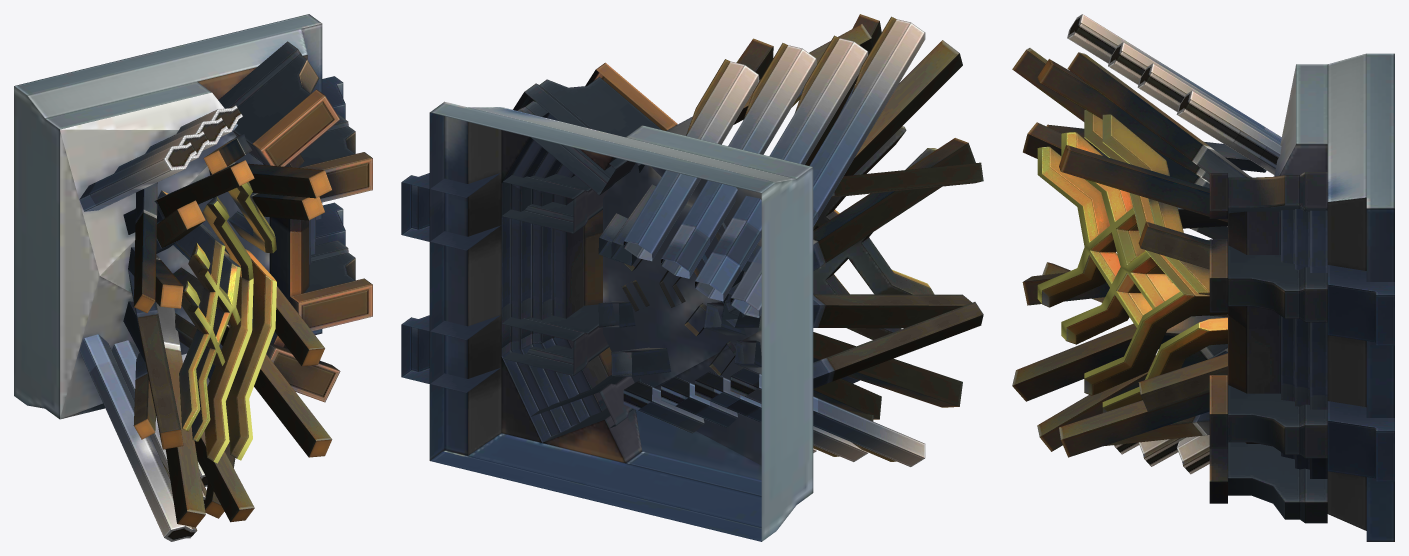
File: trap_134_condtr.glb
The picture shows the model from 3 angles, left to right: view 1: azimuth 30°, elevation 25°; view 2: azimuth 150°, elevation 25°; view 3: azimuth 270°, elevation 25°; orthographic projection. The views are drawn at different scales.
Parts seen in each view (by area): view 1: trap_134_condtr; view 2: trap_134_condtr; view 3: trap_134_condtr.
Boxes of the visible parts, x1,y1,x2,y2 form: trap_134_condtr: (14, 14, 372, 541); trap_134_condtr: (401, 14, 983, 541); trap_134_condtr: (1012, 14, 1394, 541).
Size of the model in its own units: 1.22 by 1.28 by 1.04.
Materials: 1 (1 with a texture image).
